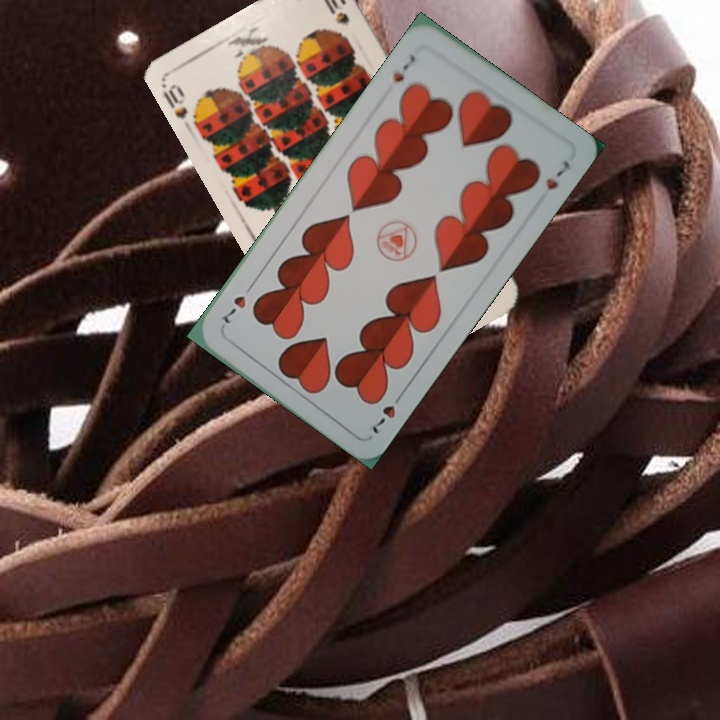H7: (366, 387, 407, 437), (388, 50, 418, 85)
S10: (158, 79, 191, 122)
